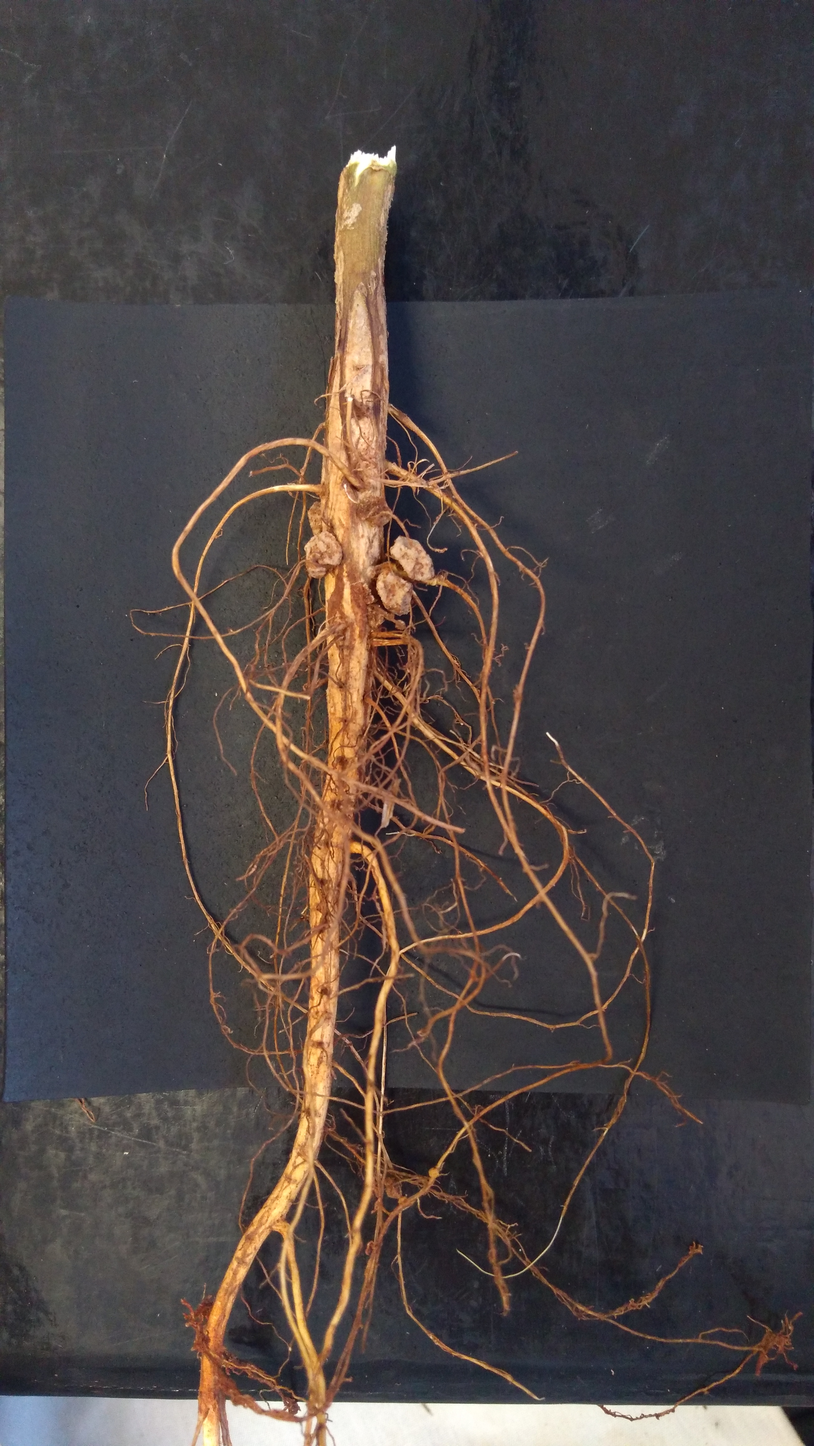nodule: (389, 534, 436, 582), (374, 565, 413, 616), (305, 531, 344, 580), (355, 494, 393, 527), (307, 500, 324, 537), (366, 604, 386, 630), (383, 1175, 403, 1199), (197, 1295, 213, 1322), (361, 581, 378, 605), (365, 1239, 376, 1257), (393, 618, 406, 630), (427, 1167, 441, 1178), (396, 1194, 407, 1204), (302, 682, 308, 691), (185, 1321, 191, 1328)
